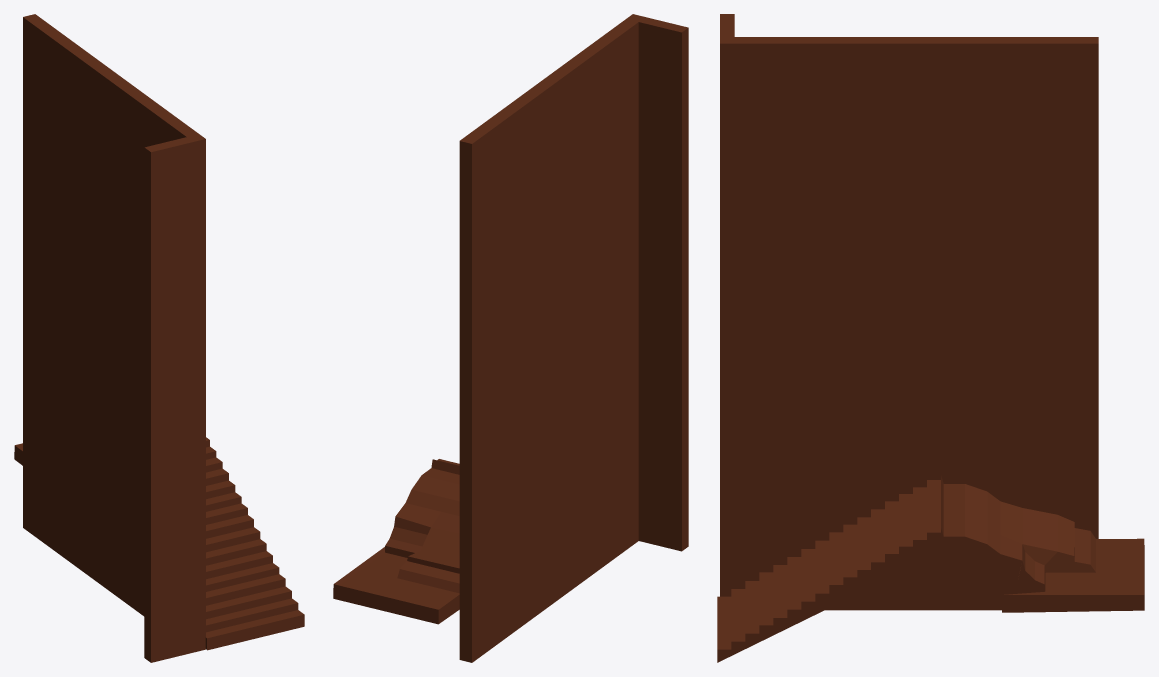
Rendered from escada_level1.fbx.
The picture shows the model from 3 angles, left to right: view 1: azimuth 30°, elevation 25°; view 2: azimuth 150°, elevation 25°; view 3: azimuth 270°, elevation 25°; orthographic projection. The views are drawn at different scales.
Parts seen in each view (by area): view 1: escadas.001; view 2: escadas.001; view 3: escadas.001.
Part boxes in pixels (x1,y1,x2,y2): escadas.001: [14, 14, 304, 662]; escadas.001: [333, 14, 688, 662]; escadas.001: [717, 14, 1144, 662].
Bounding box in the file's own units: 563 × 1736 × 1187.
